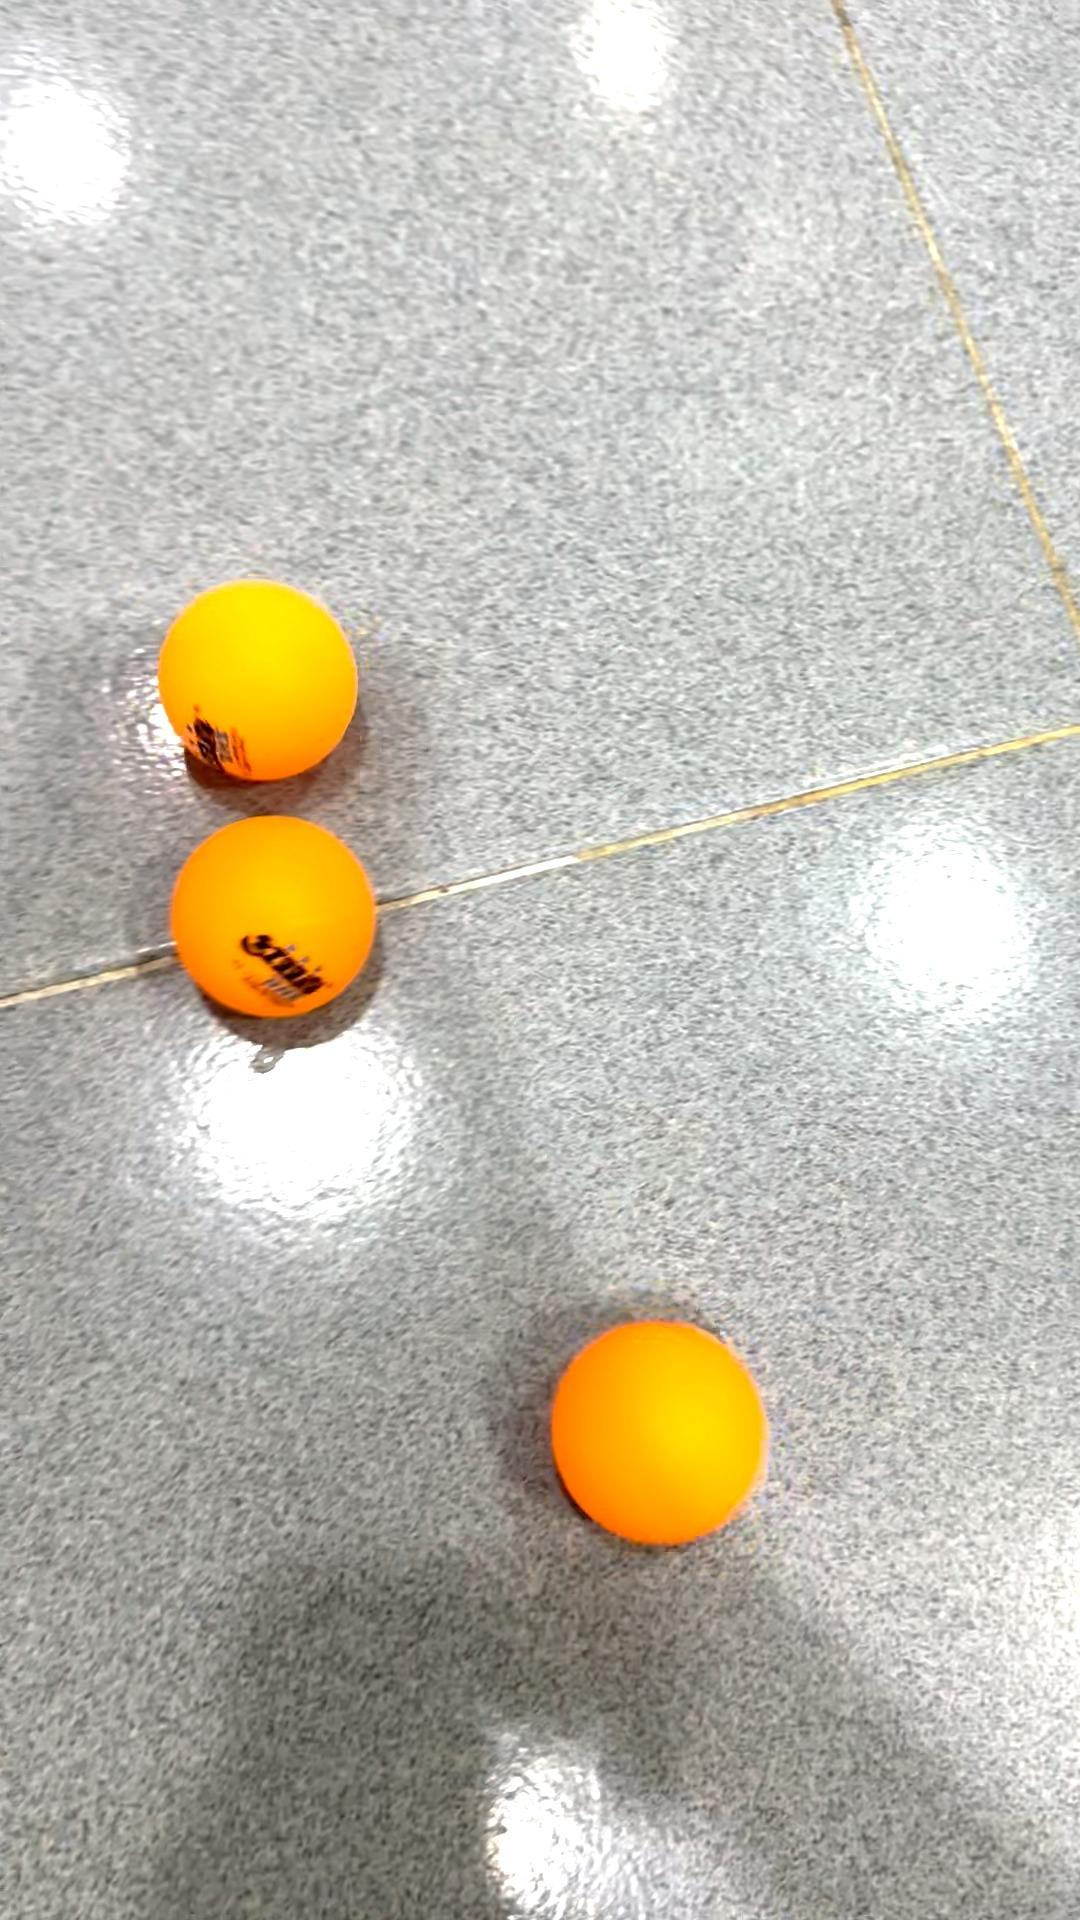oball: (543, 1309, 770, 1555), (152, 575, 375, 789), (170, 823, 393, 1023)
